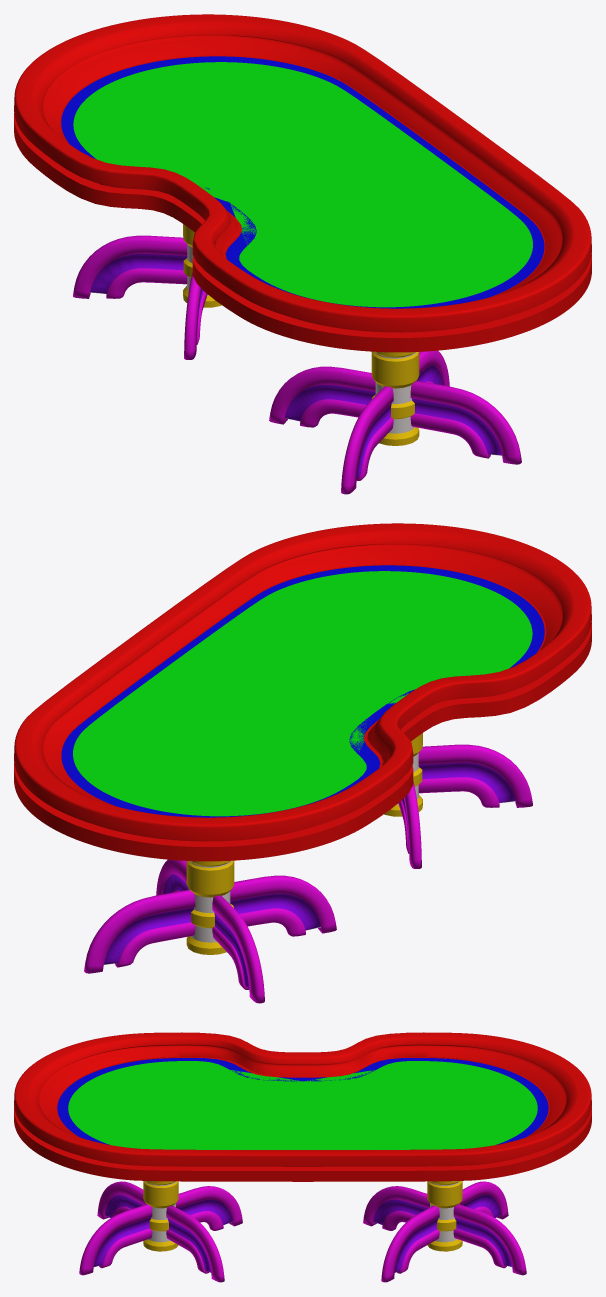
The model's file is CasinoTableFull.fbx.
3 renders of one model, top to bottom at view 1: azimuth 30°, elevation 25°; view 2: azimuth 150°, elevation 25°; view 3: azimuth 270°, elevation 25°, orthographic. The views are drawn at different scales.
Visible parts, largest first — view 1: table_low, Legs_low, Beams_low; view 2: table_low, Legs_low, Beams_low; view 3: table_low, Legs_low, Beams_low.
Part boxes in pixels (bbox=[...]): table_low: bbox=[14, 14, 591, 352]; Legs_low: bbox=[73, 235, 521, 494]; Beams_low: bbox=[183, 224, 419, 445]; table_low: bbox=[14, 523, 591, 861]; Legs_low: bbox=[84, 744, 532, 1003]; Beams_low: bbox=[186, 733, 422, 954]; table_low: bbox=[14, 1032, 591, 1181]; Legs_low: bbox=[79, 1181, 526, 1282]; Beams_low: bbox=[143, 1181, 462, 1251].
Bounding box in the file's own units: 203 × 119 × 402.
